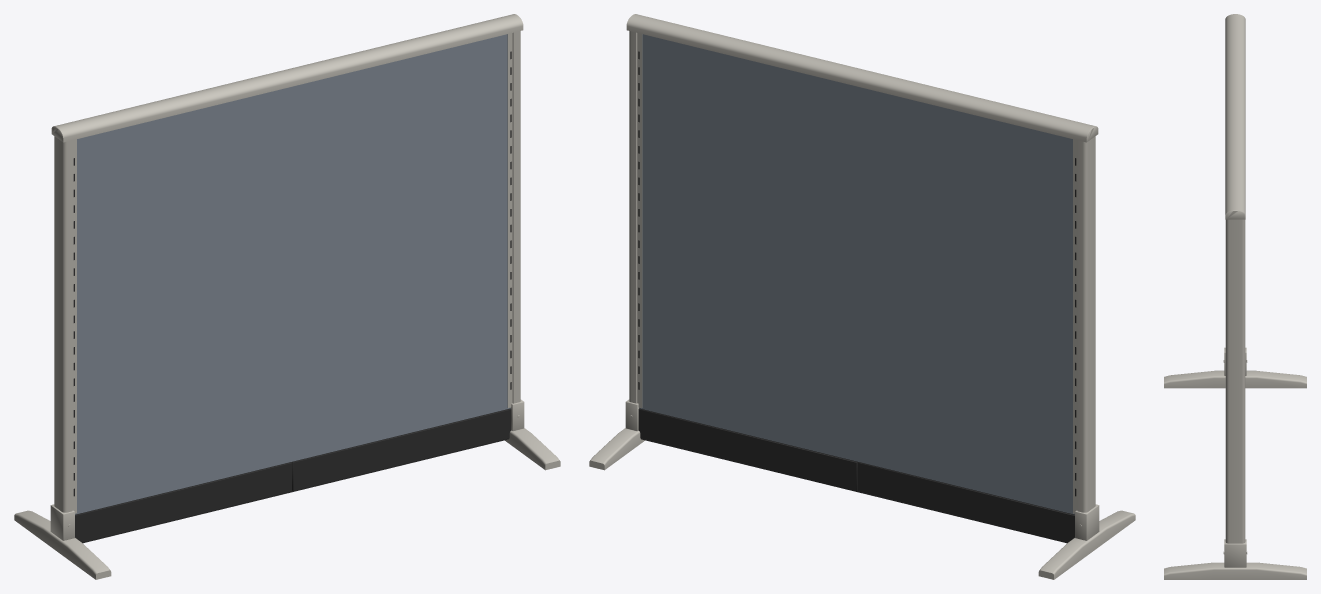
The model's file is Kit_PanelFreestanding_1350.fbx.
3 views of the same model, side by side, from view 1: azimuth 30°, elevation 25°; view 2: azimuth 150°, elevation 25°; view 3: azimuth 270°, elevation 25° (orthographic). The views are drawn at different scales.
Parts seen in each view (by area): view 1: Kit_PanelFreestanding_1350_LOD0; view 2: Kit_PanelFreestanding_1350_LOD0; view 3: Kit_PanelFreestanding_1350_LOD0.
Part boxes in pixels (box(x1,y1,x2,y2)): Kit_PanelFreestanding_1350_LOD0: box(14, 14, 560, 579); Kit_PanelFreestanding_1350_LOD0: box(589, 14, 1135, 579); Kit_PanelFreestanding_1350_LOD0: box(1164, 14, 1306, 579).
Size of what is drawn, in the model's own units: 1.54 by 1.35 by 0.47.
